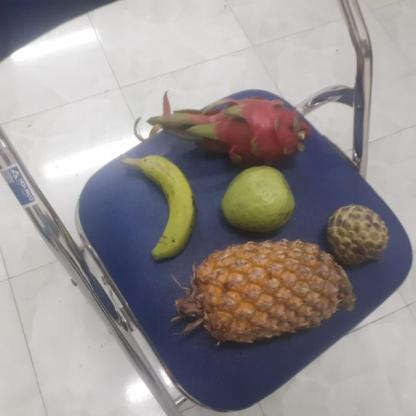annona: (322, 205, 388, 268)
banana: (127, 156, 196, 257)
guava: (218, 166, 296, 232)
pineapple: (178, 242, 352, 342)
pitaya: (199, 90, 303, 167)
